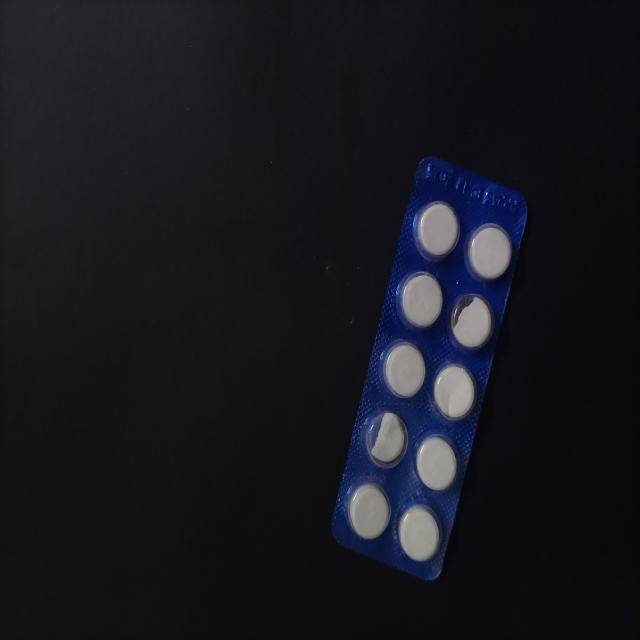defect: (360, 404, 409, 472), (448, 290, 496, 354)
